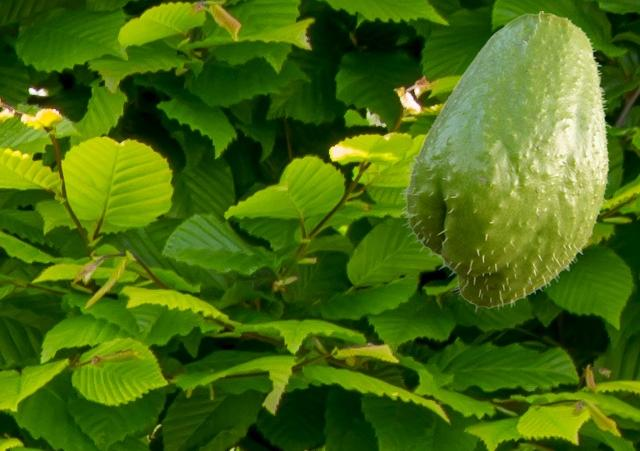sayote: (399, 11, 610, 311)
